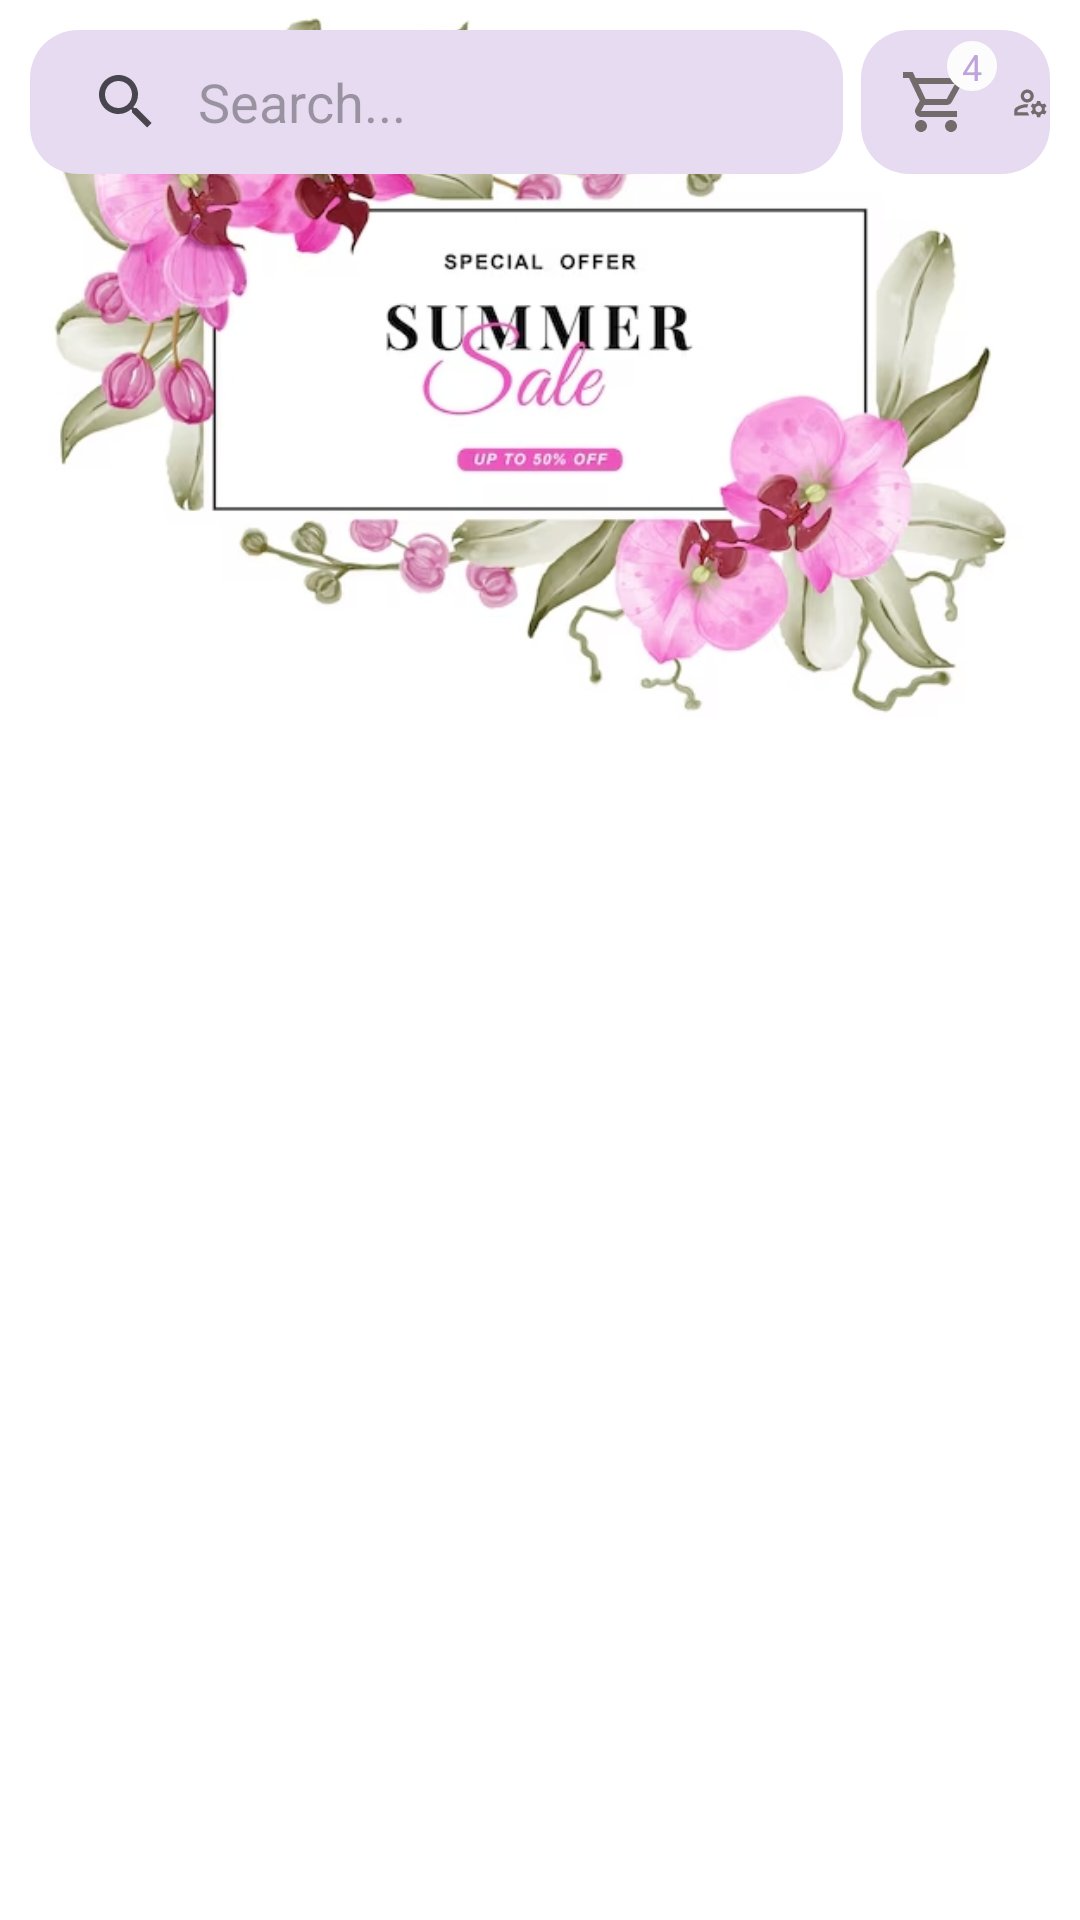

Named icons in this screenshot (1080px x 1920px) and their centers, (x,y):
home account: (1030,103)
home cart: (937,99)
home cart badge: (969,68)
